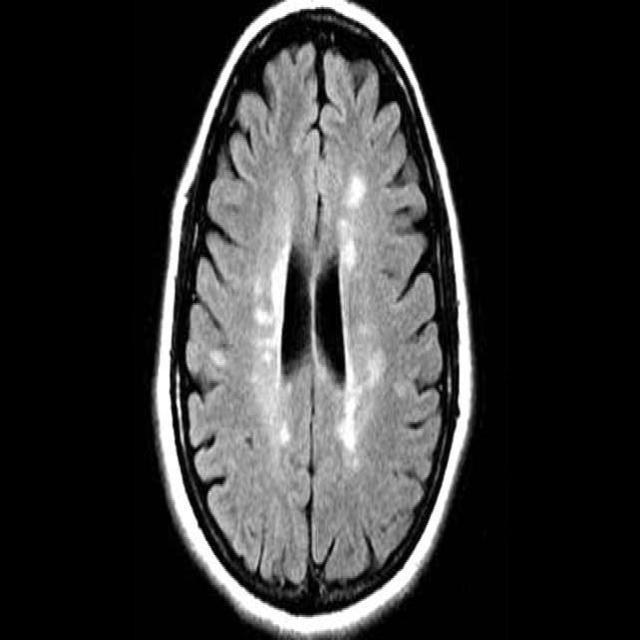notumor: (152, 7, 477, 635)
